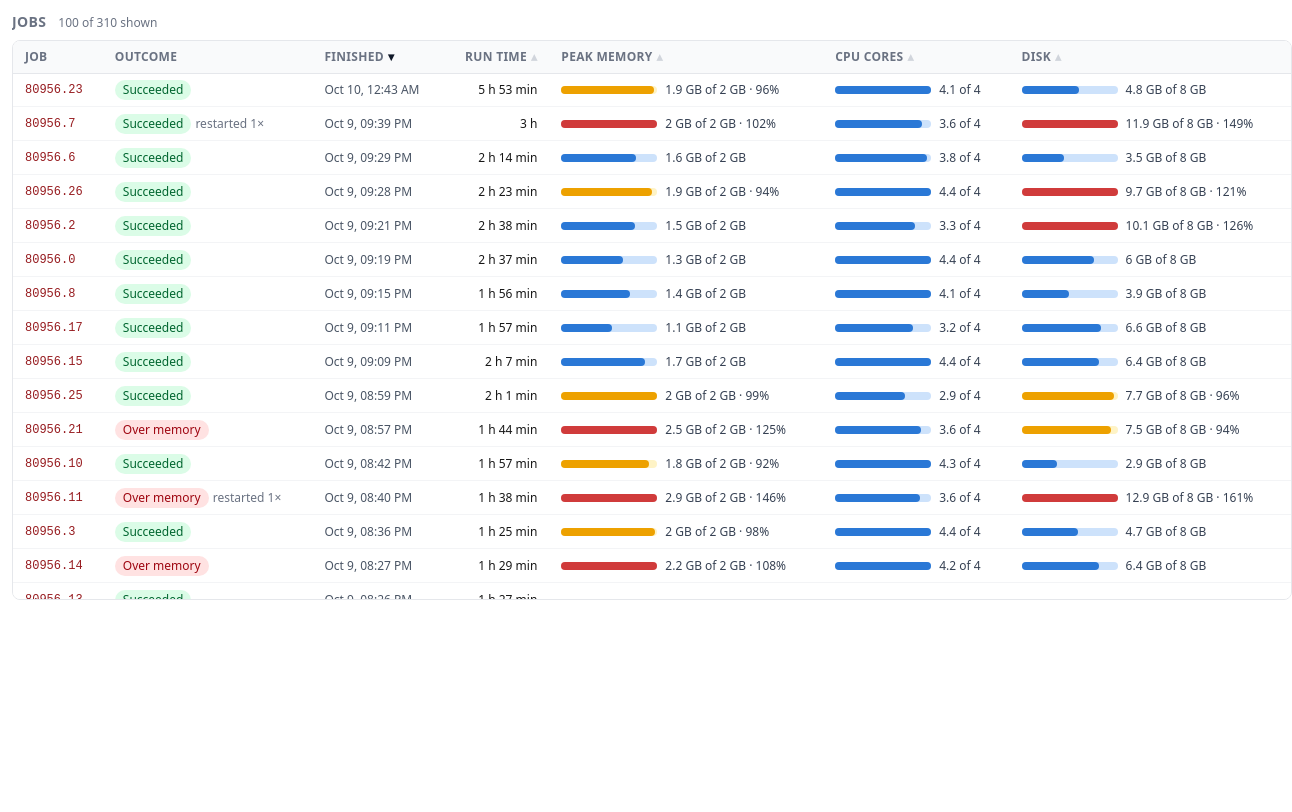
Test case: WorkflowJobs › sorts on the server and pages from where it left off
Expected: the text "100 of 310 shown" is shown, [58,15,157,31]
Click the button "Run time ▴".
click(501, 57)  # box [465,49,537,65]
(page scrolled)
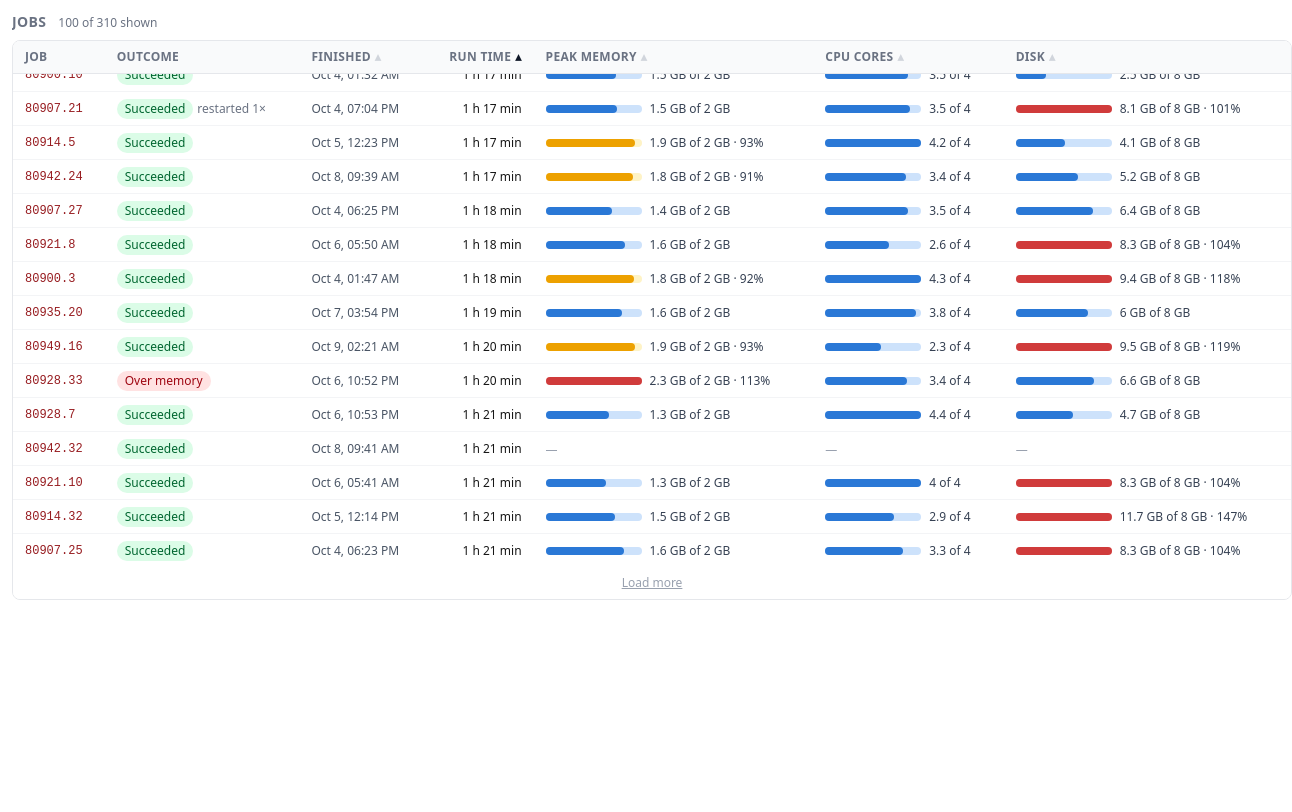
Click the button "Load more".
click(652, 583)  # box [622,575,682,591]
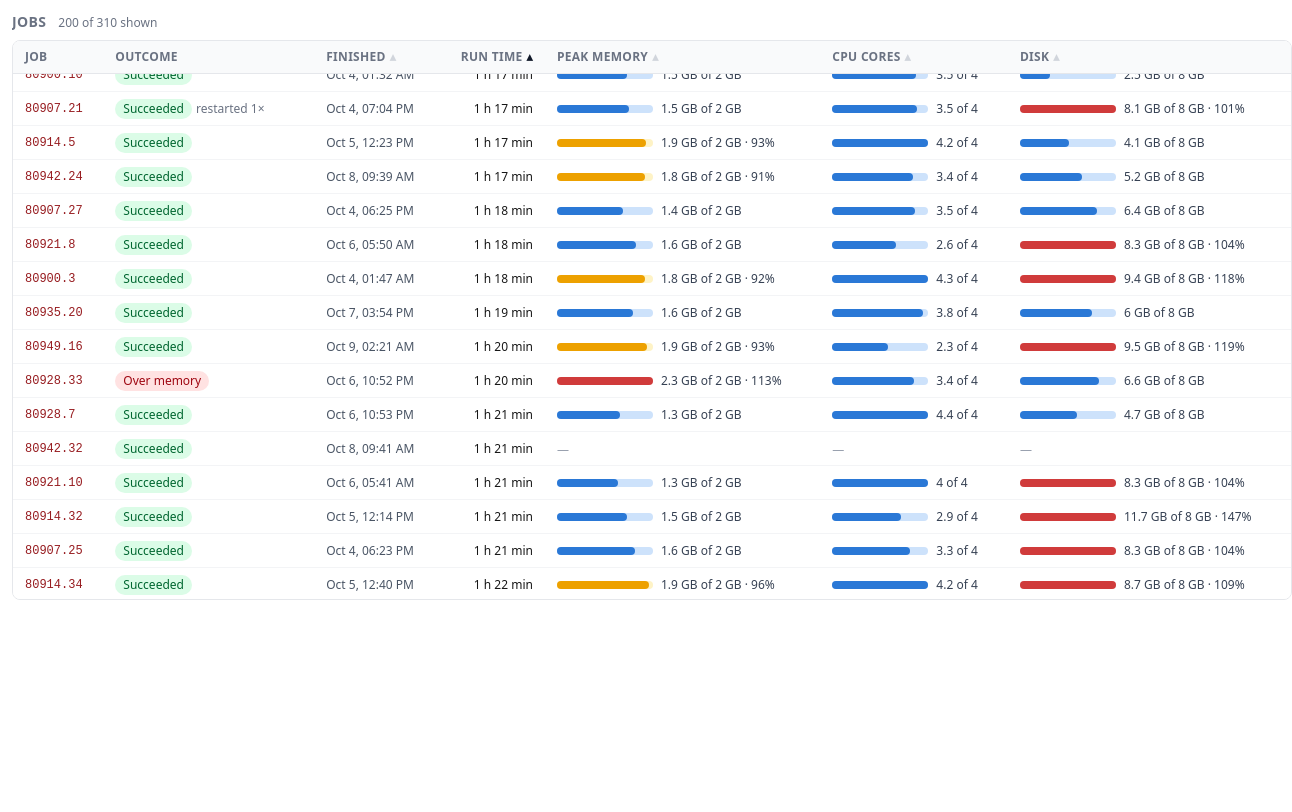
Expected: the text "200 of 310 shown" is shown, [58,15,157,31]
